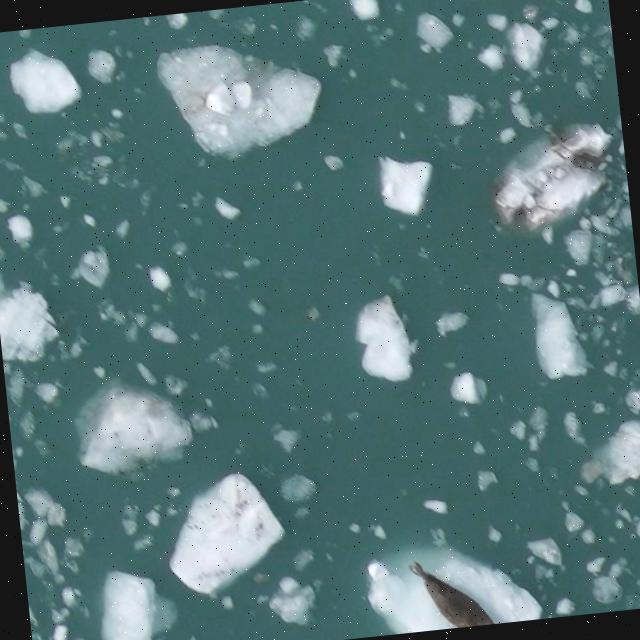seal: (393, 556, 499, 640)
